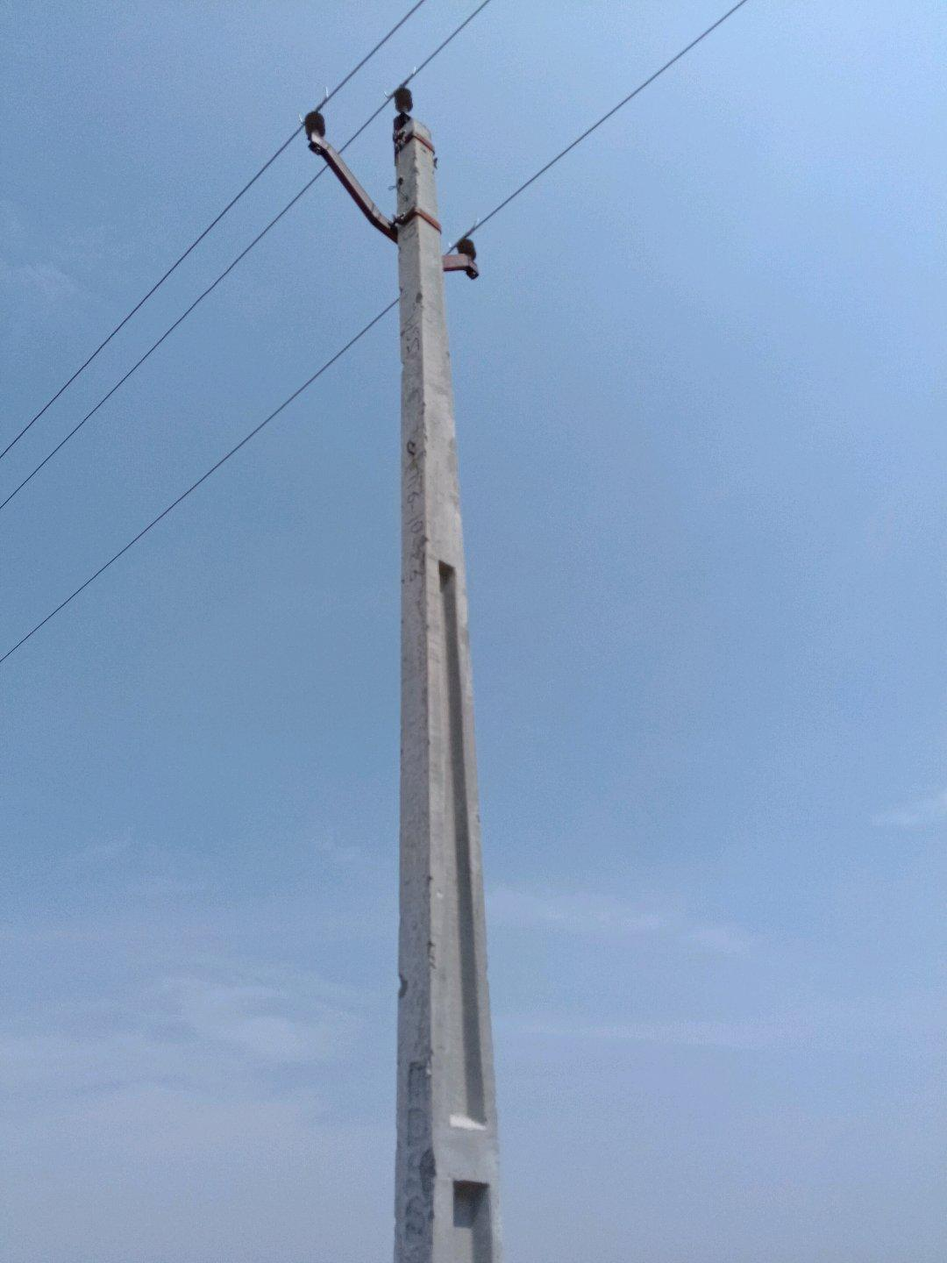{"0" "insulator", "1" "pole", "2" "crossarm", "3" "conductor", "4" "street_: (303, 87, 500, 1262)
